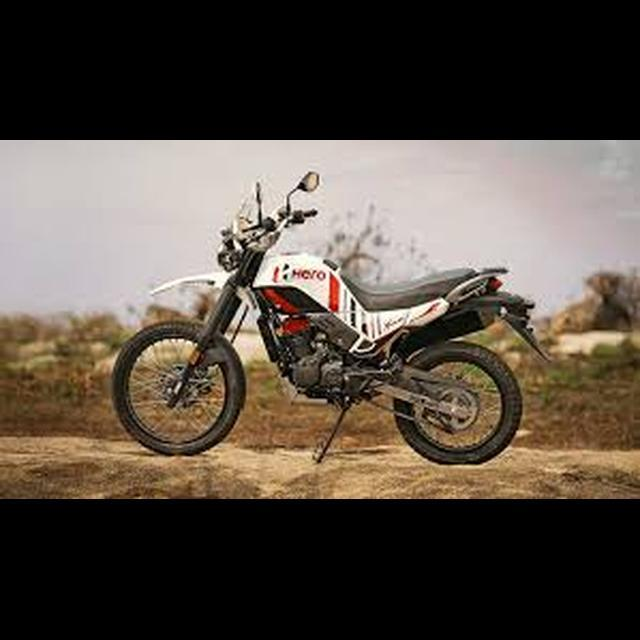motorcycle: (107, 163, 550, 470)
